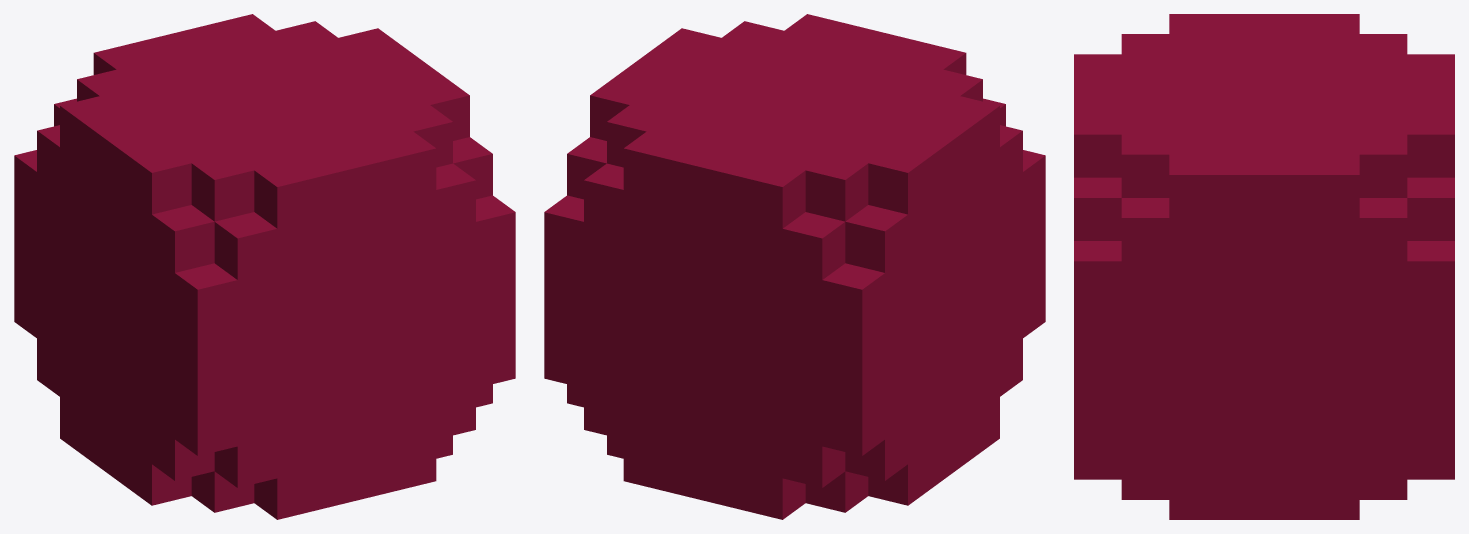
The model's file is red-leaves-block.glb.
The picture shows the model from 3 angles, left to right: view 1: azimuth 30°, elevation 25°; view 2: azimuth 150°, elevation 25°; view 3: azimuth 270°, elevation 25°; orthographic projection. The views are drawn at different scales.
Visible parts, largest first — view 1: generated(Clone); view 2: generated(Clone); view 3: generated(Clone).
Boxes of the visible parts, x1,y1,x2,y2 form: generated(Clone): [14, 14, 515, 519]; generated(Clone): [544, 14, 1045, 519]; generated(Clone): [1074, 14, 1454, 519].
Bounding box in the file's own units: 8 × 8 × 8.
Materials: 1 (1 with a texture image).
